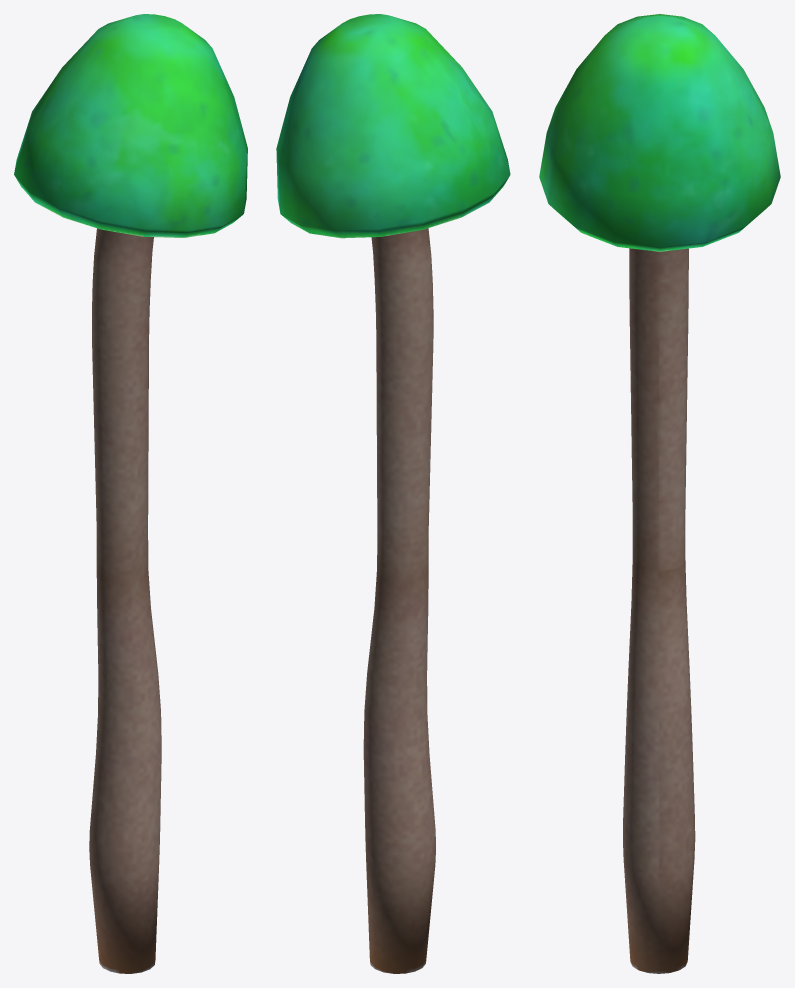
File: Hongo3.obj
3 renders of one model, left to right at view 1: azimuth 30°, elevation 25°; view 2: azimuth 150°, elevation 25°; view 3: azimuth 270°, elevation 25°, orthographic.
Visible parts, largest first — view 1: Circle.001_Circle.002; view 2: Circle.001_Circle.002; view 3: Circle.001_Circle.002.
Part boxes in pixels (x1,y1,x2,y2): Circle.001_Circle.002: (14, 14, 247, 973); Circle.001_Circle.002: (276, 14, 510, 973); Circle.001_Circle.002: (539, 14, 780, 973).
Size of the model in its own units: 0.8369 by 3.65 by 0.8419.
1 material, 1 textured.
